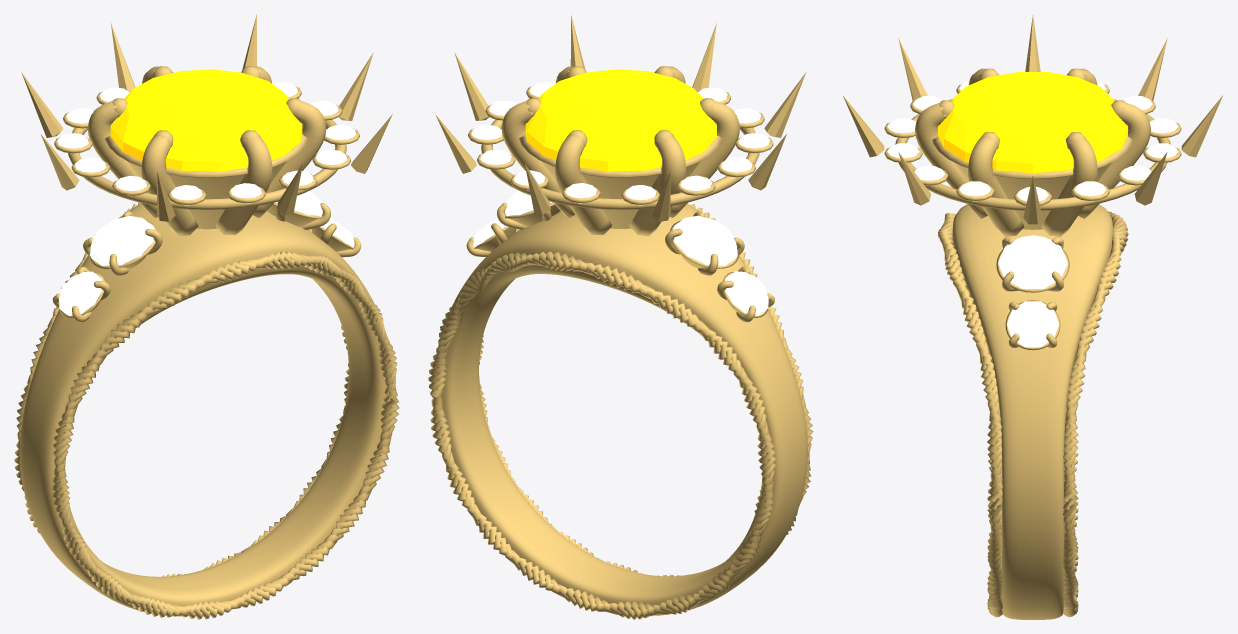
File: jewel_ring_legendary.glb
The picture shows the model from 3 angles, left to right: view 1: azimuth 30°, elevation 25°; view 2: azimuth 150°, elevation 25°; view 3: azimuth 270°, elevation 25°; orthographic projection.
Visible parts, largest first — view 1: jewel_ring_legendary; view 2: jewel_ring_legendary; view 3: jewel_ring_legendary.
Boxes of the visible parts, x1,y1,x2,y2 form: jewel_ring_legendary: (14, 14, 399, 619); jewel_ring_legendary: (428, 15, 813, 619); jewel_ring_legendary: (843, 15, 1222, 619).
Size of the model in its own units: 2.3 by 3.2 by 2.18.
